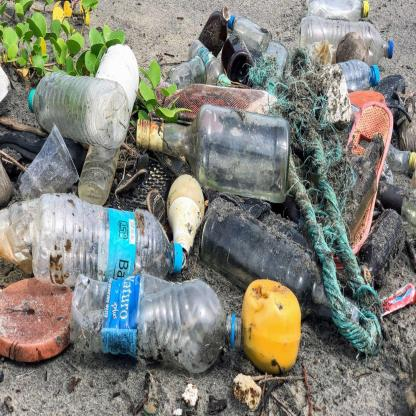Can: (136, 104, 290, 201)
Glass Bottle: (70, 274, 242, 373), (32, 194, 184, 285), (31, 71, 130, 148), (301, 13, 394, 64), (339, 59, 380, 91), (307, 0, 370, 20)
